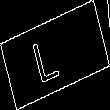L_N: (38, 26, 72, 84)
